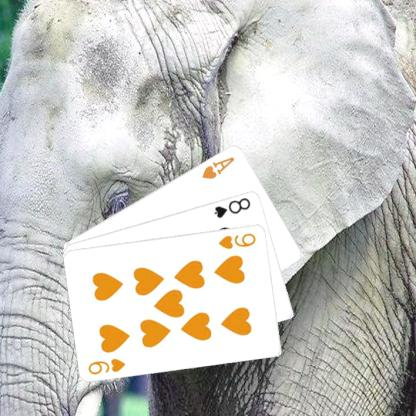8S: (212, 195, 252, 219)
9H: (216, 230, 257, 250), (86, 356, 127, 376)
AH: (199, 154, 236, 180)
